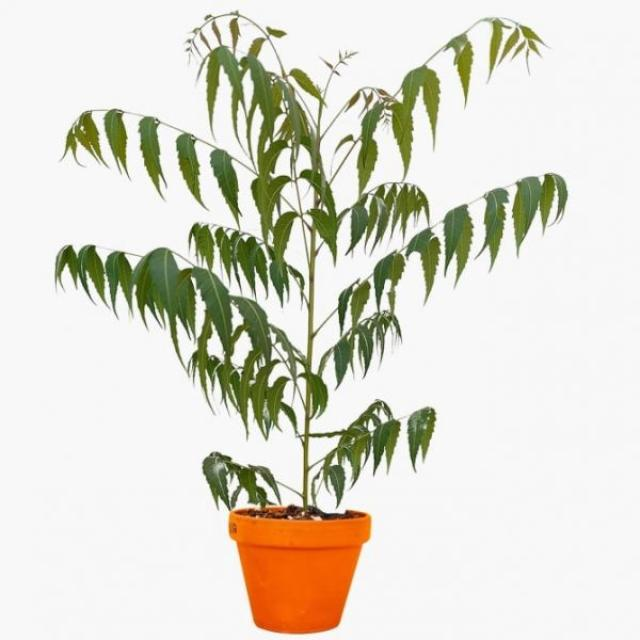Medicinal-Neem: (51, 10, 569, 511)
